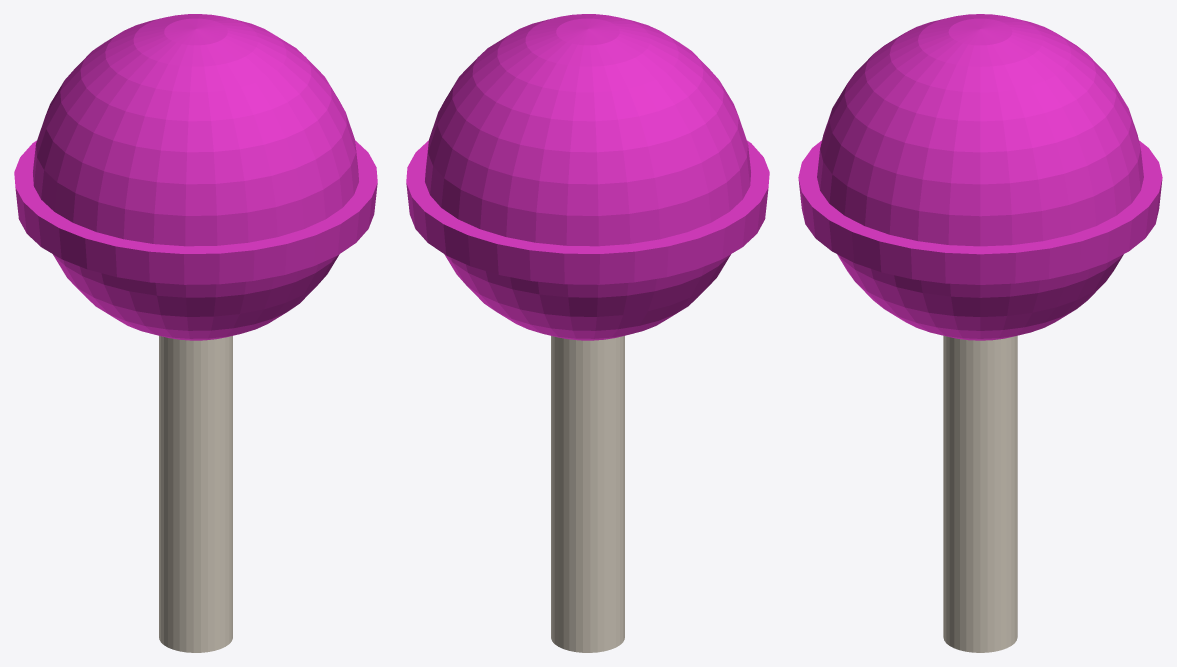
The model's file is Lolipop.fbx.
3 renders of one model, left to right at view 1: azimuth 30°, elevation 25°; view 2: azimuth 150°, elevation 25°; view 3: azimuth 270°, elevation 25°, orthographic.
Parts seen in each view (by area): view 1: Candy, Stick, Candy Band; view 2: Candy, Stick, Candy Band; view 3: Candy, Stick, Candy Band.
Part boxes in pixels (left/top/right/bottom): Candy: left=33, top=14, right=358, bottom=340; Stick: left=159, top=336, right=232, bottom=652; Candy Band: left=14, top=140, right=377, bottom=284; Candy: left=425, top=14, right=750, bottom=340; Stick: left=551, top=336, right=624, bottom=652; Candy Band: left=406, top=140, right=769, bottom=284; Candy: left=817, top=14, right=1143, bottom=340; Stick: left=943, top=335, right=1017, bottom=652; Candy Band: left=798, top=140, right=1162, bottom=284.
Size of the model in its own units: 36.4 by 67.07 by 36.4.
